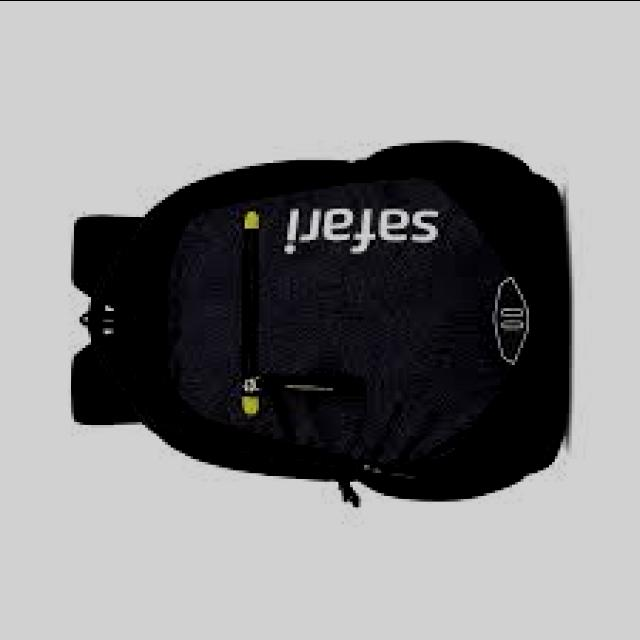backpack: (66, 144, 570, 508)
